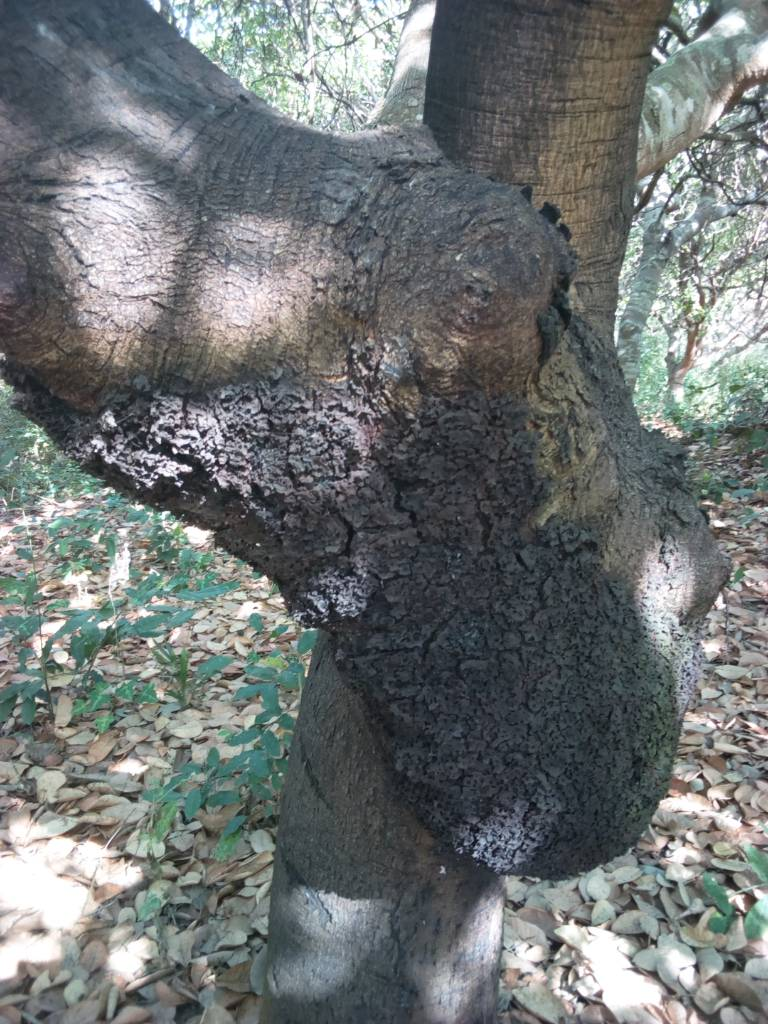Termites: (240, 367, 657, 841)
